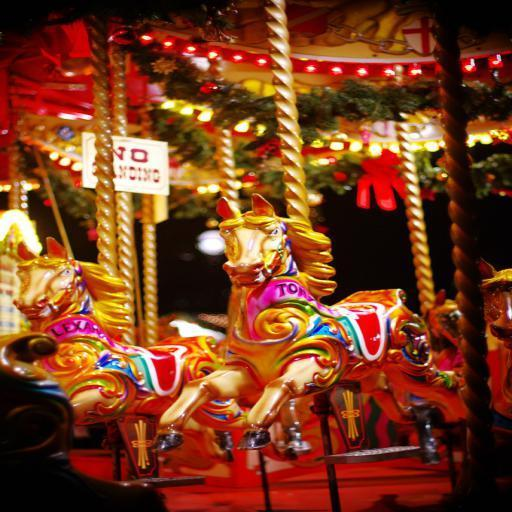horse: (151, 191, 469, 450), (10, 234, 296, 462), (476, 257, 512, 418), (425, 289, 461, 371)
